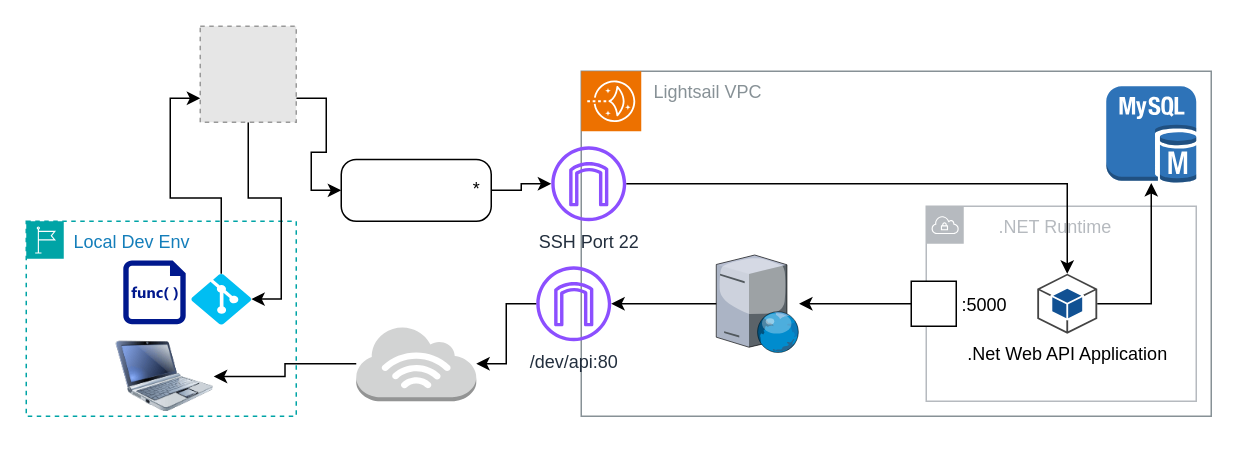
Image size: 1238x459. Some labels were removed from this diagram. Grey dashed boxes stand in for pictures. The centre of each missing label's shape, as x and y in pixels:
"CD Action" belongs at (415,189).
"internet" belongs at (415,363).
"NginX" belongs at (757,303).
